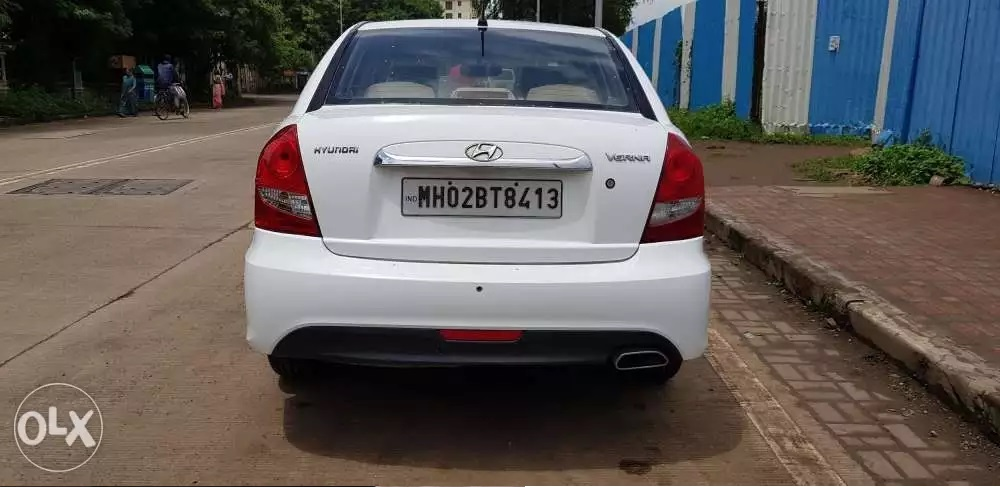licenseplate: (398, 172, 567, 221)
